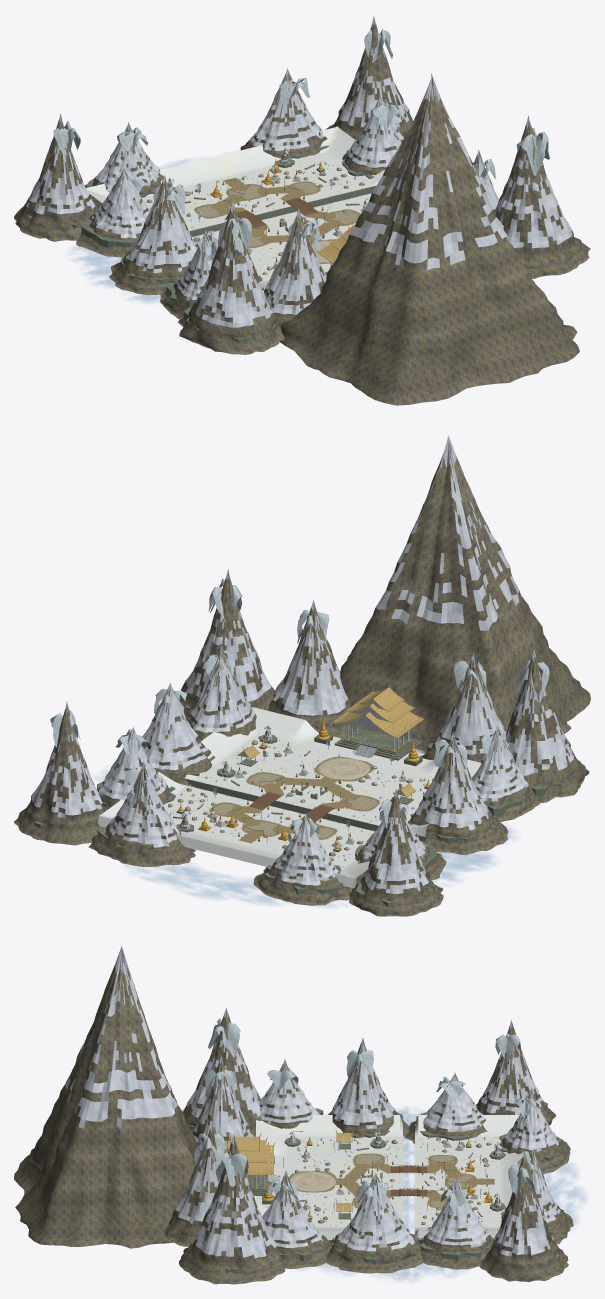
Rendered from kailash-peak.glb.
3 renders of one model, top to bottom at view 1: azimuth 30°, elevation 25°; view 2: azimuth 150°, elevation 25°; view 3: azimuth 270°, elevation 25°, orthographic. The views are drawn at different scales.
Visible parts, largest first — view 1: v8 kailash summit | v8_mrock, Ground - varied meadow | ground_kailash_peak, v8 kailash summit | v8_snow, Summit snow shelves | white, v8 peak 16 | v8_mrock, v8 peak 17 | v8_mrock, v8 peak 18 | v8_mrock, v8 peak 16 | v8_snow, v8 peak 17 | v8_snow, v8 peak 8 | v8_mrock, v8 peak 8 | v8_snow, v8 peak 14 | v8_snow (+21 smaller); view 2: v8 kailash summit | v8_mrock, Ground - varied meadow | ground_kailash_peak, Summit snow shelves | white, Cloud sea beneath cliffs | cloudSoft, v8 kailash summit | v8_snow, v8 peak 19 | v8_mrock, v8 peak 16 | v8_mrock, v8 peak 18 | v8_mrock, v8 peak 15 | v8_snow, v8 peak 8 | v8_mrock, v8 peak 13 | v8_mrock, v8 peak 8 | v8_snow (+28 smaller); view 3: v8 kailash summit | v8_mrock, Ground - varied meadow | ground_kailash_peak, Summit snow shelves | white, v8 kailash summit | v8_snow, v8 peak 17 | v8_mrock, Cloud sea beneath cliffs | cloudSoft, v8 peak 19 | v8_mrock, v8 peak 17 | v8_snow, v8 peak 9 | v8_mrock, v8 peak 9 | v8_snow, v8 peak 8 | v8_snow, v8 peak 7 | v8_snow (+28 smaller).
Boxes of the visible parts, <box> form: v8 kailash summit | v8_mrock: <box>280,93,579,405</box>; Ground - varied meadow | ground_kailash_peak: <box>86,126,384,287</box>; v8 kailash summit | v8_snow: <box>349,74,510,269</box>; Summit snow shelves | white: <box>53,29,549,270</box>; v8 peak 16 | v8_mrock: <box>178,208,284,354</box>; v8 peak 17 | v8_mrock: <box>495,124,590,278</box>; v8 peak 18 | v8_mrock: <box>14,119,98,241</box>; v8 peak 16 | v8_snow: <box>195,200,272,327</box>; v8 peak 17 | v8_snow: <box>494,115,572,248</box>; v8 peak 8 | v8_mrock: <box>109,180,192,295</box>; v8 peak 8 | v8_snow: <box>126,174,197,273</box>; v8 peak 14 | v8_snow: <box>263,208,326,314</box>; v8 kailash summit | v8_mrock: <box>340,456,590,754</box>; Ground - varied meadow | ground_kailash_peak: <box>97,707,481,888</box>; Summit snow shelves | white: <box>50,578,549,837</box>; Cloud sea beneath cliffs | cloudSoft: <box>93,748,518,908</box>; v8 kailash summit | v8_snow: <box>375,435,519,630</box>; v8 peak 19 | v8_mrock: <box>14,708,105,845</box>; v8 peak 16 | v8_mrock: <box>506,656,589,802</box>; v8 peak 18 | v8_mrock: <box>349,795,443,916</box>; v8 peak 15 | v8_snow: <box>272,600,348,715</box>; v8 peak 8 | v8_mrock: <box>409,738,508,855</box>; v8 peak 13 | v8_mrock: <box>88,768,195,866</box>; v8 peak 8 | v8_snow: <box>415,732,489,830</box>; v8 kailash summit | v8_mrock: <box>14,964,200,1248</box>; Ground - varied meadow | ground_kailash_peak: <box>256,1115,529,1239</box>; Summit snow shelves | white: <box>194,1018,541,1209</box>; v8 kailash summit | v8_snow: <box>65,946,177,1128</box>; v8 peak 17 | v8_mrock: <box>179,1142,285,1284</box>; Cloud sea beneath cliffs | cloudSoft: <box>254,1106,587,1282</box>; v8 peak 19 | v8_mrock: <box>479,1156,568,1282</box>; v8 peak 17 | v8_snow: <box>195,1134,276,1258</box>; v8 peak 9 | v8_mrock: <box>326,1177,422,1273</box>; v8 peak 9 | v8_snow: <box>338,1172,414,1251</box>; v8 peak 8 | v8_snow: <box>330,1038,394,1128</box>; v8 peak 7 | v8_snow: <box>262,1170,322,1247</box>.
Bounding box in the file's own units: 286 × 183 × 377.
19 materials, 18 textured.
